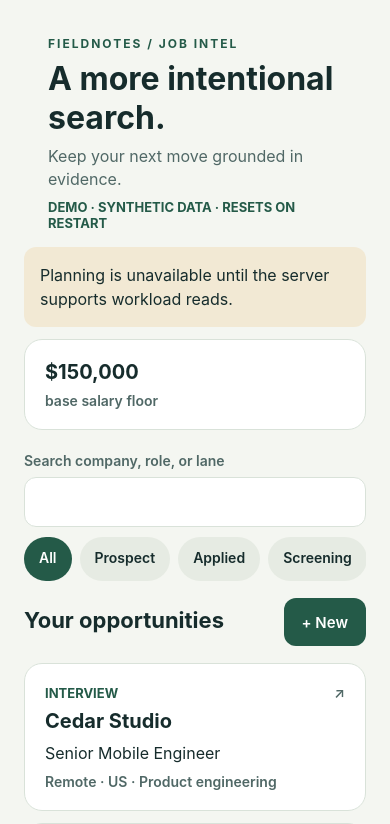
search and stage filters show a meaningful empty state
Expected: the button with aria-label "Open Cedar Studio, Senior Mobile Engineer, Interview" is shown, top-left (24, 663), bottom-right (366, 811)
In the field named "Search company, role, or lane": (195, 502) top-left (24, 477), bottom-right (366, 527), type "nonexistent"
(page scrolled)
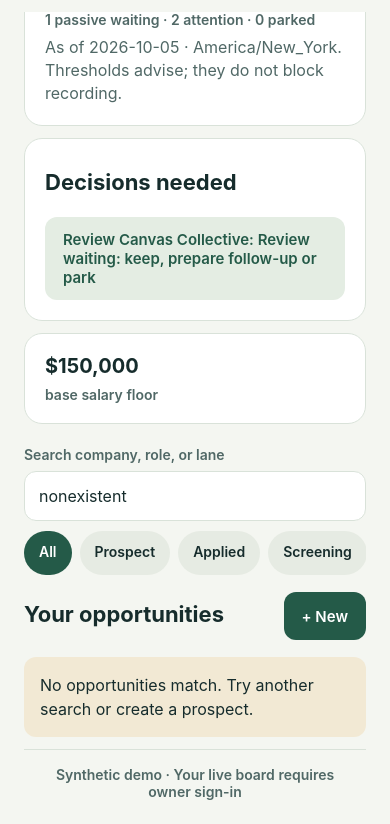
Expected: the text "No opportunities match. Try another search or create a prospect." is shown, top-left (40, 673), bottom-right (350, 721)
